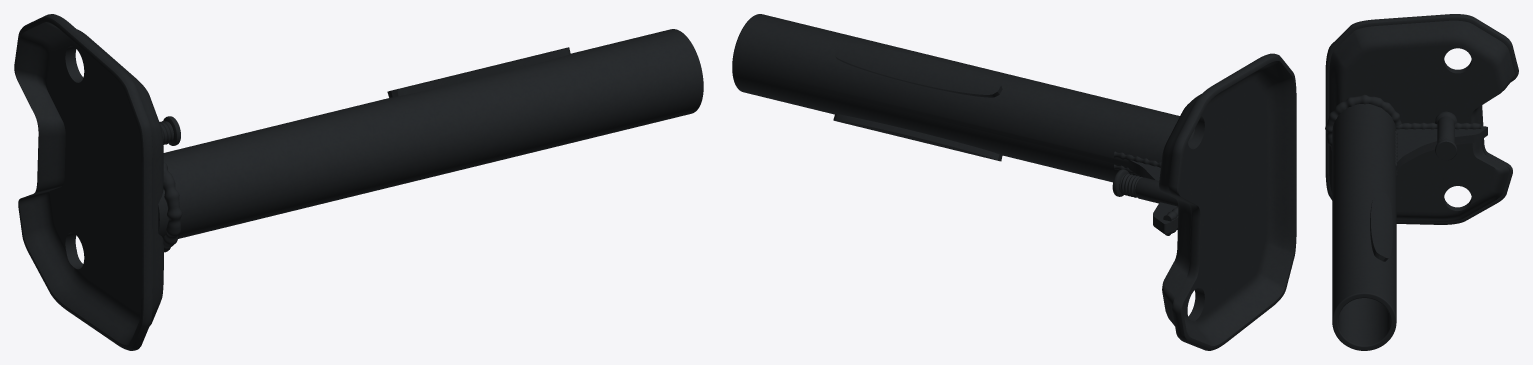
File: front-footrest-left-inspection.glb
3 views of the same model, side by side, from view 1: azimuth 30°, elevation 25°; view 2: azimuth 150°, elevation 25°; view 3: azimuth 270°, elevation 25° (orthographic). The views are drawn at different scales.
Parts seen in each view (by area): view 1: PF113000 related metal support - isolated candidate; view 2: PF113000 related metal support - isolated candidate; view 3: PF113000 related metal support - isolated candidate.
Boxes of the visible parts, x1,y1,x2,y2 form: PF113000 related metal support - isolated candidate: (14,14,703,350); PF113000 related metal support - isolated candidate: (732,14,1296,350); PF113000 related metal support - isolated candidate: (1325,14,1518,350).
Size of the model in its own units: 0.165 by 0.0792 by 0.0664.
1 material, 1 textured.
